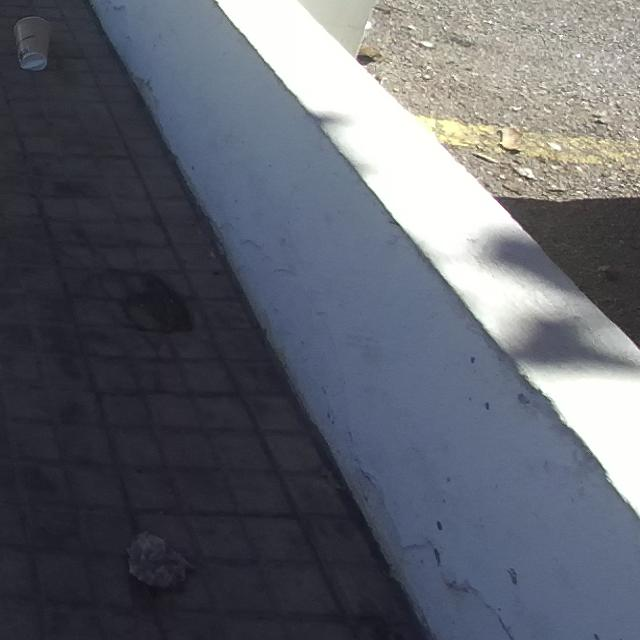calcada_quebrada: (55, 246, 110, 295), (121, 301, 162, 358)
